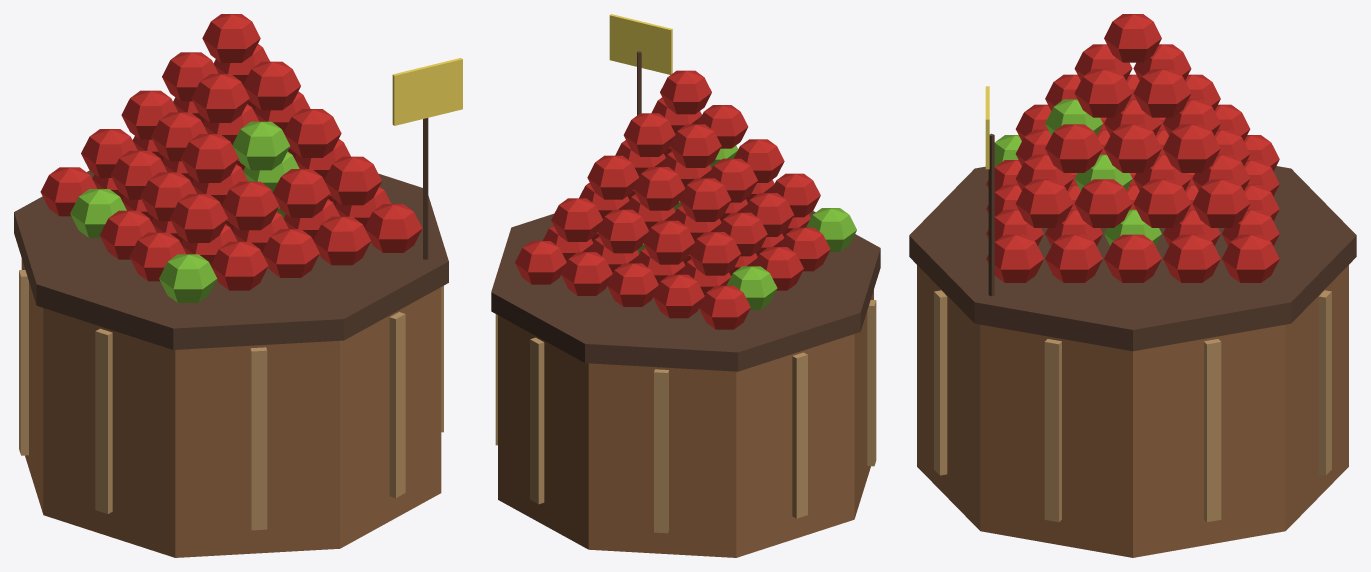
The model's file is Fruit_Pyramid_Apple_Market.fbx.
The picture shows the model from 3 angles, left to right: view 1: azimuth 30°, elevation 25°; view 2: azimuth 150°, elevation 25°; view 3: azimuth 270°, elevation 25°; orthographic projection. The views are drawn at different scales.
Parts seen in each view (by area): view 1: Fruit_Pyramid_Apple_Market; view 2: Fruit_Pyramid_Apple_Market; view 3: Fruit_Pyramid_Apple_Market.
Boxes of the visible parts, x1,y1,x2,y2 form: Fruit_Pyramid_Apple_Market: (14, 14, 462, 557); Fruit_Pyramid_Apple_Market: (491, 14, 880, 557); Fruit_Pyramid_Apple_Market: (909, 14, 1356, 557).
Size of the model in its own units: 1.14 by 1.27 by 1.14.
Materials: 1 (1 with a texture image).
